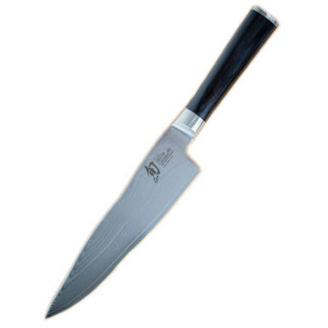knife: (44, 2, 280, 319)
